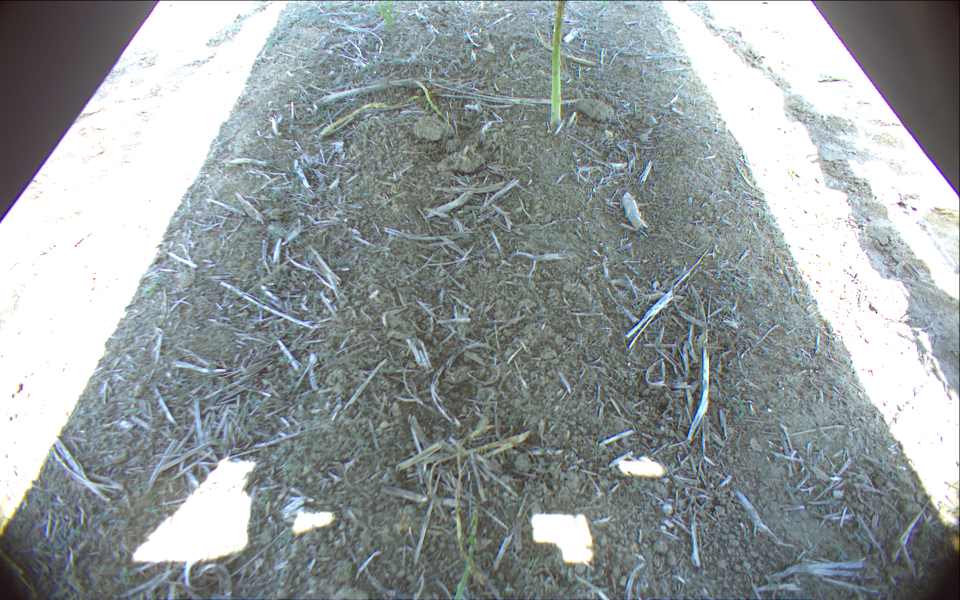aspa: (317, 84, 443, 134), (451, 507, 478, 600), (531, 28, 596, 66), (549, 1, 568, 127), (411, 77, 450, 124)
